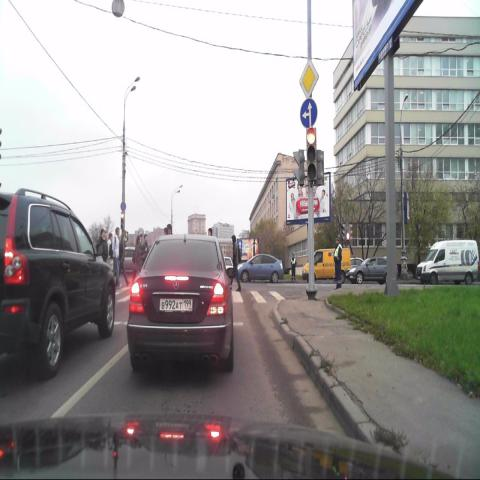4_1_5: (300, 97, 317, 127)
